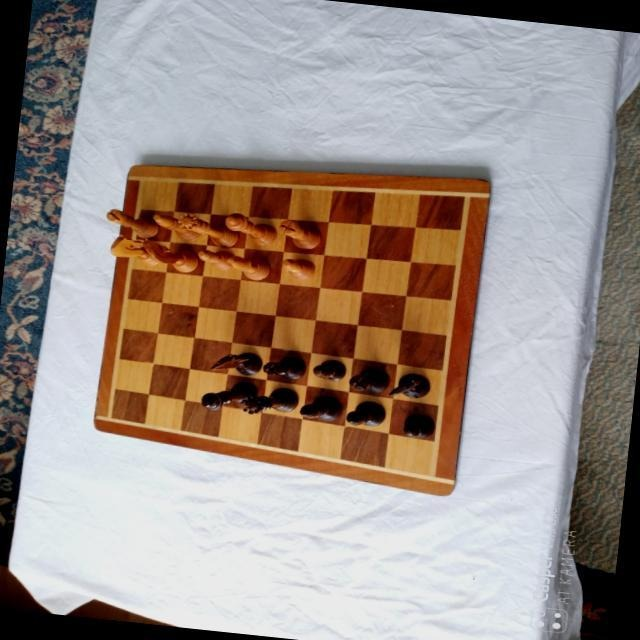black-bishop: (298, 392, 342, 422), (345, 398, 387, 428)
black-king: (199, 374, 257, 413)
black-knight: (209, 348, 263, 376), (387, 370, 431, 398)
black-pawn: (401, 411, 435, 438), (311, 356, 346, 381)
black-queen: (237, 382, 298, 418)
black-rook: (262, 352, 306, 379), (348, 364, 390, 392)
white-bishop: (150, 212, 202, 240), (225, 252, 270, 280)
white-king: (223, 211, 277, 245)
white-knight: (139, 236, 200, 272), (109, 233, 163, 265)
white-pawn: (196, 246, 236, 270), (280, 255, 316, 279)
white-queen: (174, 210, 239, 248)
white-rook: (104, 206, 160, 238), (275, 218, 322, 250)
